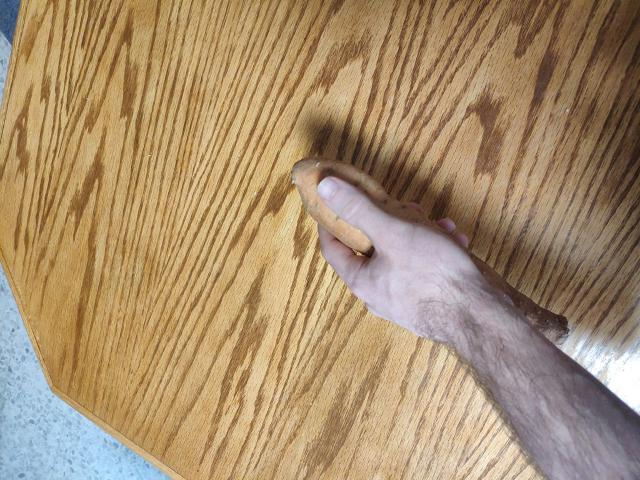sweet_potato: (286, 158, 576, 355)
